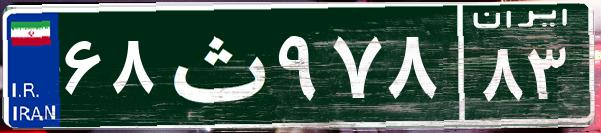3: (525, 38, 570, 115)
6: (57, 26, 110, 107)
7: (330, 28, 385, 110)
8: (385, 28, 445, 110), (475, 38, 525, 113), (110, 28, 158, 105)
9: (273, 28, 330, 110)
ث: (158, 15, 273, 115)
